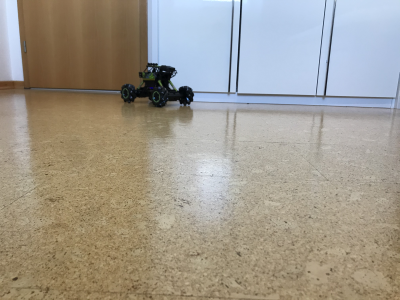remote control car: (118, 57, 195, 109)
